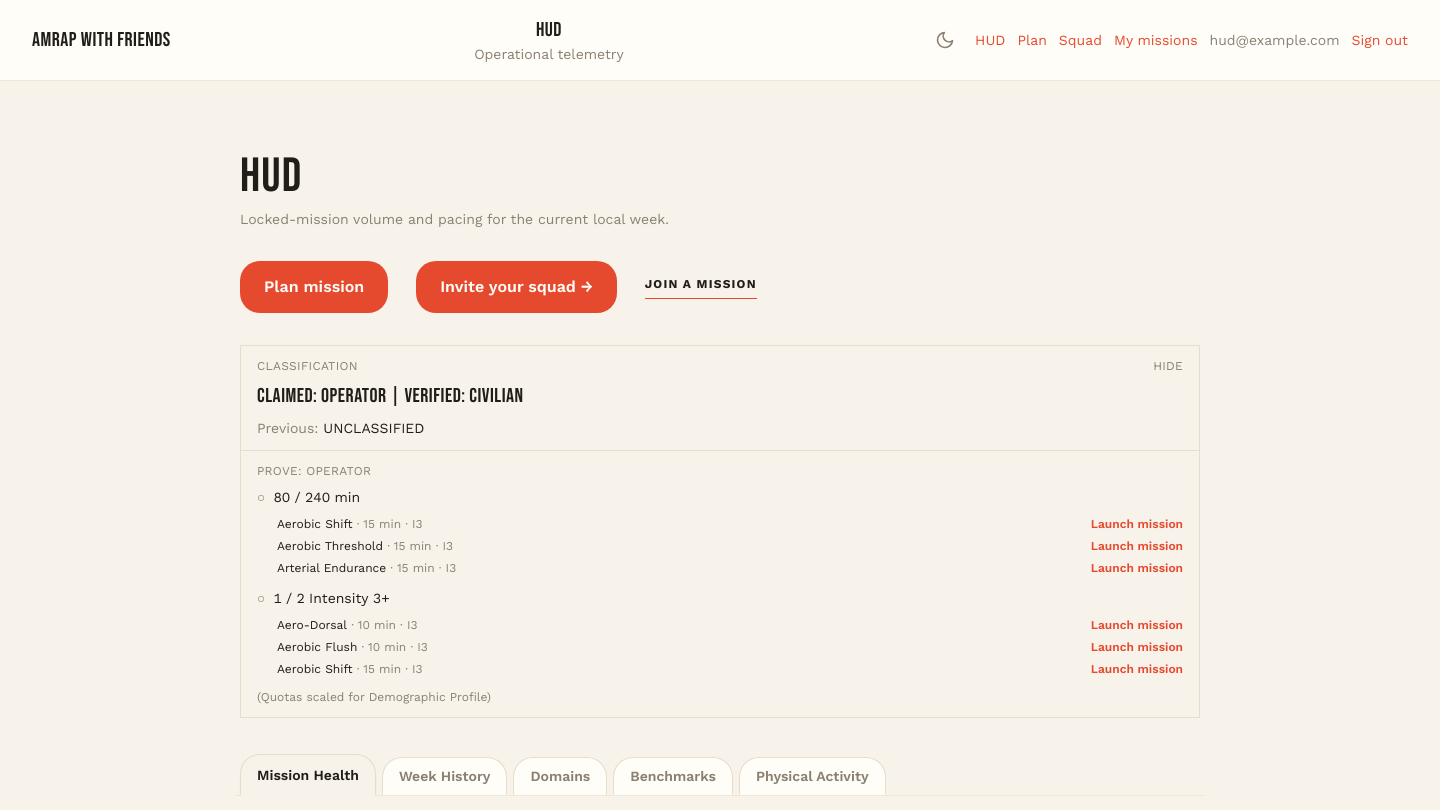
Test: HUDPage tabs › stacks 72-hour, 7-day, and 30-day domain matrices on Domains
This screenshot has width=1440, height=810.
Click the tab "Domains" at (560, 776), box [514,757,607,795]
(page scrolled)
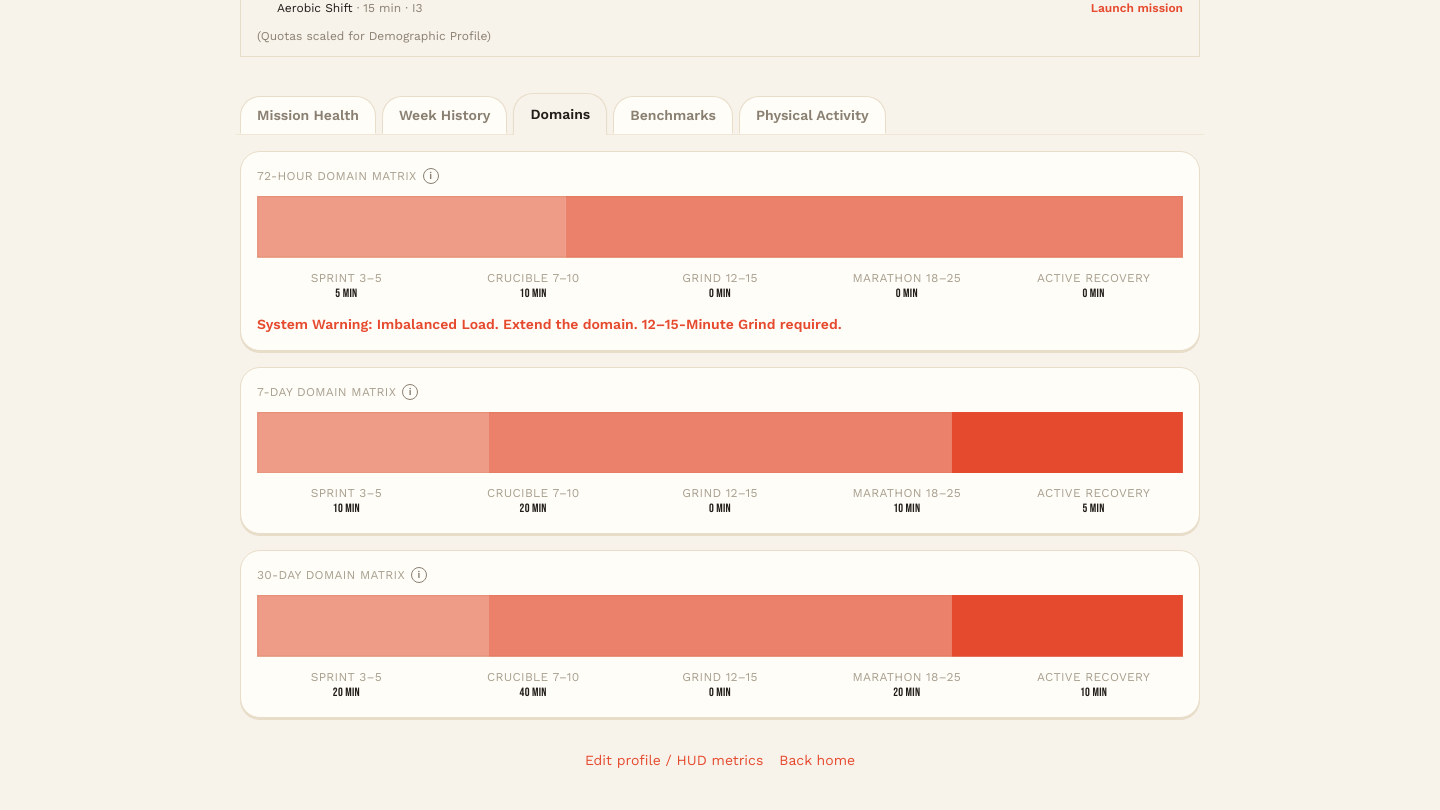
Expected: the element labelled "72-hour domain matrix" is shown, [240,151,1200,351]
Expected: the element labelled "7-day domain matrix" is shown, [240,367,1200,534]
Expected: the element labelled "30-day domain matrix" is shown, [240,550,1200,718]
